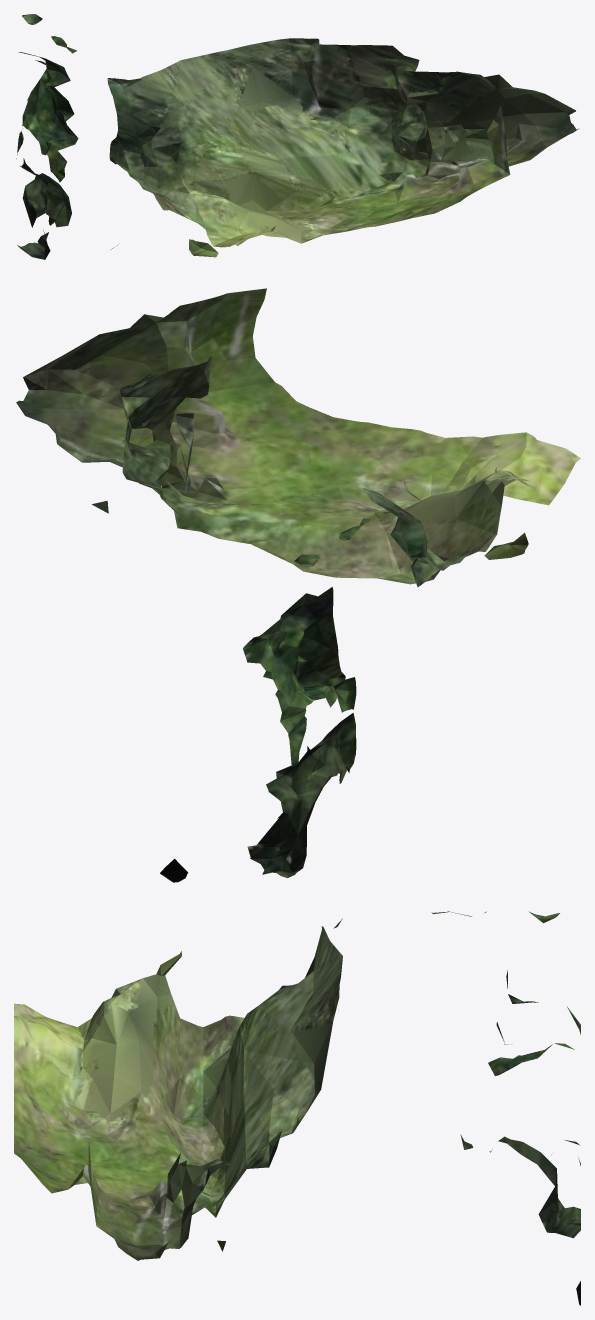
3 views of the same model, one above another, from view 1: azimuth 30°, elevation 25°; view 2: azimuth 150°, elevation 25°; view 3: azimuth 270°, elevation 25° (orthographic). The views are drawn at different scales.
Bounding box in the file's own units: 26.11 × 17.03 × 26.11.
Materials: 3 (3 with a texture image).
